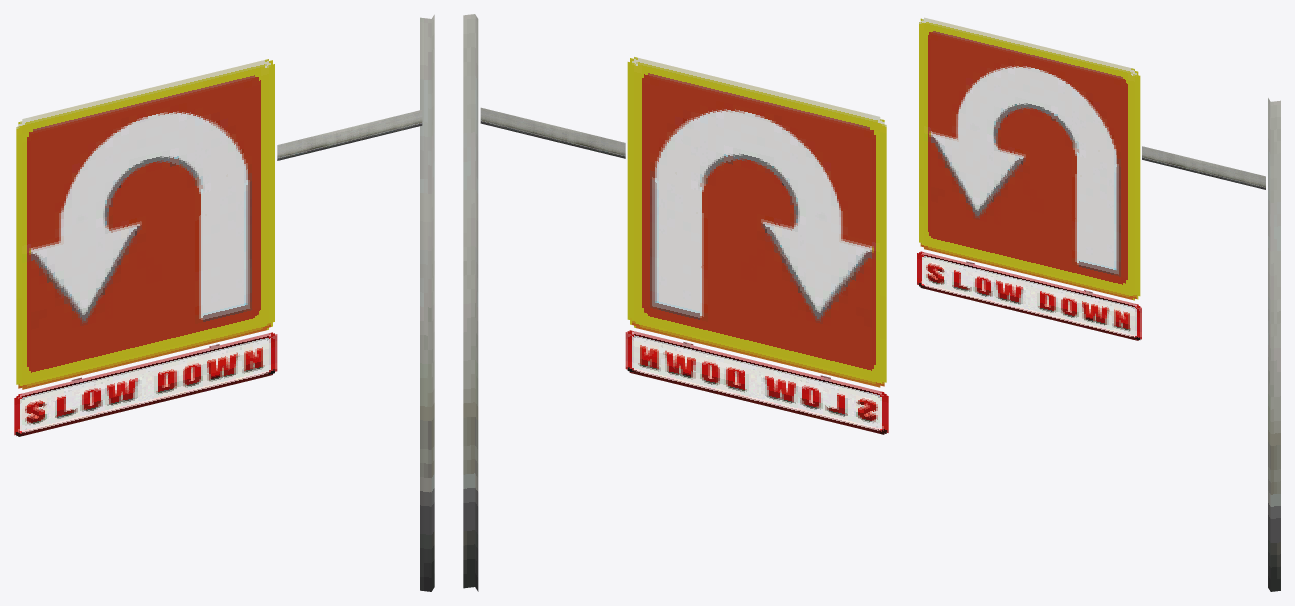
The model's file is stage-sanf-p5-13.glb.
The picture shows the model from 3 angles, left to right: view 1: azimuth 30°, elevation 25°; view 2: azimuth 150°, elevation 25°; view 3: azimuth 330°, elevation 25°; orthographic projection. The views are drawn at different scales.
Size of the model in its own units: 8.04 by 10.41 by 0.1415.
3 materials, 3 textured.
